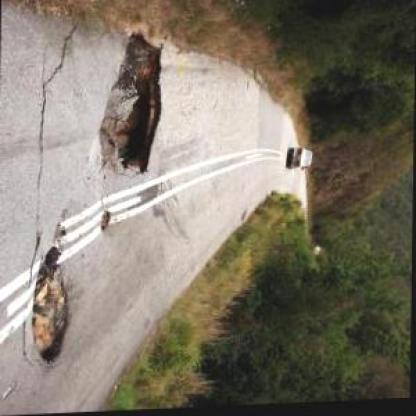pothole: (96, 30, 169, 180), (28, 245, 75, 369), (98, 208, 114, 234)
